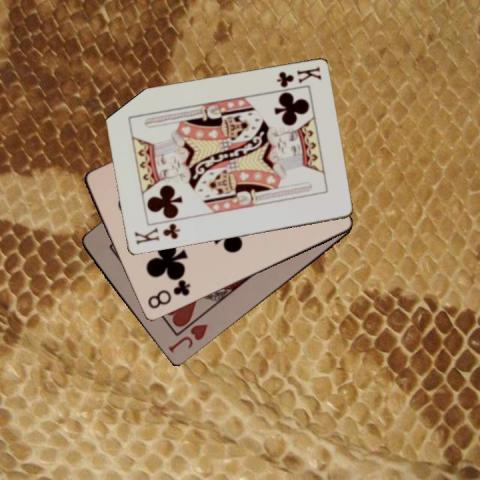8c: (145, 278, 191, 311)
Jh: (165, 321, 209, 355)
Kc: (132, 221, 182, 247), (273, 65, 323, 89)
